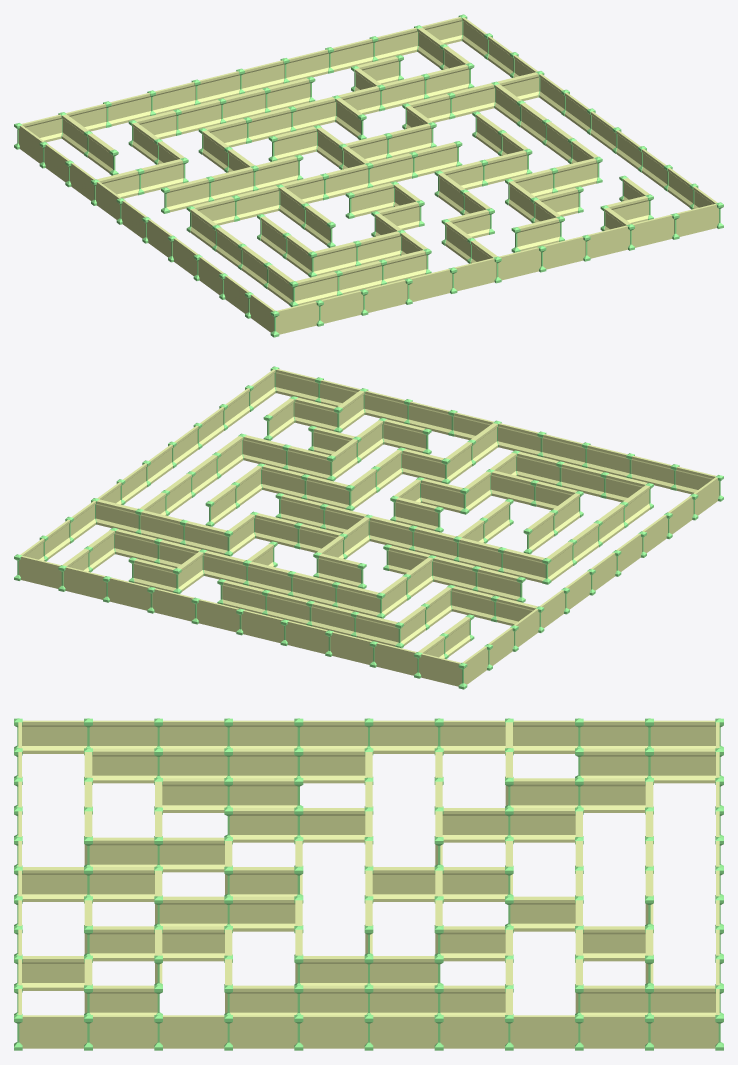
File: Maze.fbx
3 views of the same model, one above another, from view 1: azimuth 30°, elevation 25°; view 2: azimuth 150°, elevation 25°; view 3: azimuth 270°, elevation 25° (orthographic). The views are drawn at different scales.
Parts seen in each view (by area): view 1: WallPrefab_Clone__165, WallPrefab_Clone__102, WallPrefab_Clone__132, WallPrefab_Clone__14, WallPrefab_Clone__58, WallPrefab_Clone__76, WallPrefab_Clone__93, WallPrefab_Clone__80, WallPrefab_Clone__11, WallPrefab_Clone__186, WallPrefab_Clone__64, WallPrefab_Clone__91 (+91 smaller); view 2: WallPrefab_Clone__53, WallPrefab_Clone__177, WallPrefab_Clone__31, WallPrefab_Clone__154, WallPrefab_Clone__67, WallPrefab_Clone__36, WallPrefab_Clone__73, WallPrefab_Clone__91, WallPrefab_Clone__22, WallPrefab_Clone__76, WallPrefab_Clone__83, WallPrefab_Clone__110 (+99 smaller); view 3: WallPrefab_Clone__47, WallPrefab_Clone__82, WallPrefab_Clone__144, WallPrefab_Clone__171, WallPrefab_Clone__201, WallPrefab_Clone__68, WallPrefab_Clone__77, WallPrefab_Clone__96, WallPrefab_Clone__108, WallPrefab_Clone__34, WallPrefab_Clone__79, WallPrefab_Clone__148 (+46 smaller).
Part boxes in pixels (box(x1,y1,x2,y2)): WallPrefab_Clone__165: box(320, 290, 363, 323); WallPrefab_Clone__102: box(631, 214, 674, 247); WallPrefab_Clone__132: box(409, 269, 452, 301); WallPrefab_Clone__14: box(236, 187, 279, 220); WallPrefab_Clone__58: box(414, 143, 457, 176); WallPrefab_Clone__76: box(330, 38, 373, 71); WallPrefab_Clone__93: box(178, 101, 221, 134); WallPrefab_Clone__80: box(452, 84, 494, 117); WallPrefab_Clone__11: box(484, 151, 527, 184); WallPrefab_Clone__186: box(543, 236, 585, 269); WallPrefab_Clone__64: box(166, 179, 209, 212); WallPrefab_Clone__91: box(587, 225, 629, 258); WallPrefab_Clone__53: box(451, 587, 494, 620); WallPrefab_Clone__177: box(374, 642, 417, 675); WallPrefab_Clone__31: box(63, 566, 106, 599); WallPrefab_Clone__154: box(285, 621, 328, 653); WallPrefab_Clone__67: box(114, 530, 157, 562); WallPrefab_Clone__36: box(152, 588, 194, 621); WallPrefab_Clone__73: box(203, 552, 246, 584); WallPrefab_Clone__91: box(364, 390, 407, 423); WallPrefab_Clone__22: box(369, 517, 412, 549); WallPrefab_Clone__76: box(108, 577, 150, 610); WallPrefab_Clone__83: box(491, 471, 533, 504); WallPrefab_Clone__110: box(255, 514, 297, 547); WallPrefab_Clone__47: box(650, 1015, 718, 1048); WallPrefab_Clone__82: box(229, 809, 297, 842); WallPrefab_Clone__144: box(89, 1015, 157, 1048); WallPrefab_Clone__171: box(580, 1015, 648, 1048); WallPrefab_Clone__201: box(19, 1015, 87, 1048); WallPrefab_Clone__68: box(440, 1015, 508, 1048); WallPrefab_Clone__77: box(229, 1015, 297, 1048); WallPrefab_Clone__96: box(159, 1015, 227, 1048); WallPrefab_Clone__108: box(510, 1015, 578, 1048); WallPrefab_Clone__34: box(370, 720, 437, 753); WallPrefab_Clone__79: box(300, 1015, 367, 1048); WallPrefab_Clone__148: box(370, 1015, 437, 1048).
Bounding box in the file's own units: 4050 × 210 × 4050.
